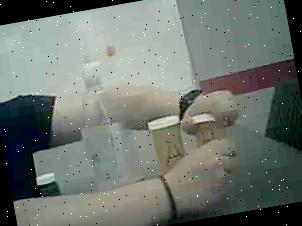Bottle A: (143, 110, 193, 186)
Bottle B: (188, 104, 237, 177)
Bottle C: (32, 164, 64, 207)
hazard: (60, 37, 149, 196)
